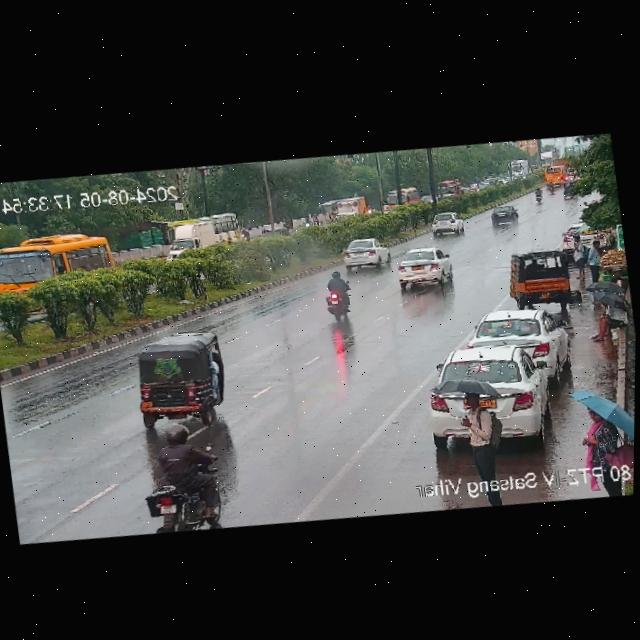bus: (384, 183, 420, 215), (541, 163, 566, 188), (505, 156, 532, 179)
car: (421, 335, 567, 461), (119, 329, 233, 432), (0, 222, 120, 301), (466, 301, 571, 378), (508, 242, 580, 312), (387, 244, 453, 294), (333, 241, 388, 276), (331, 194, 369, 226), (426, 210, 465, 239), (486, 203, 521, 229), (434, 175, 464, 202)
motorcycle: (145, 427, 224, 537), (317, 271, 360, 325), (533, 187, 545, 204)
person: (451, 387, 505, 476), (578, 396, 635, 474), (585, 296, 629, 343), (582, 240, 606, 282)
truck: (162, 211, 243, 265)
